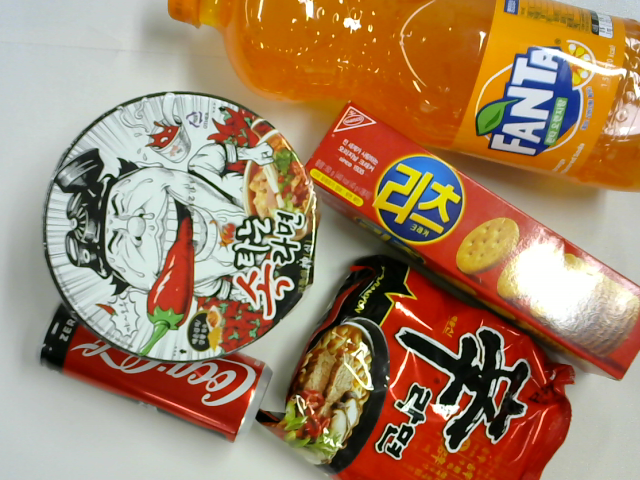Coca_Cola_Zero_Can_250ml: (38, 300, 274, 444)
HeJangsock: (42, 91, 316, 361)
Hwanta_Orange_1.5L: (167, 1, 640, 194)
Ritz_Cracker: (305, 101, 640, 382), (304, 104, 640, 383)
Sinramen: (256, 254, 578, 480)
